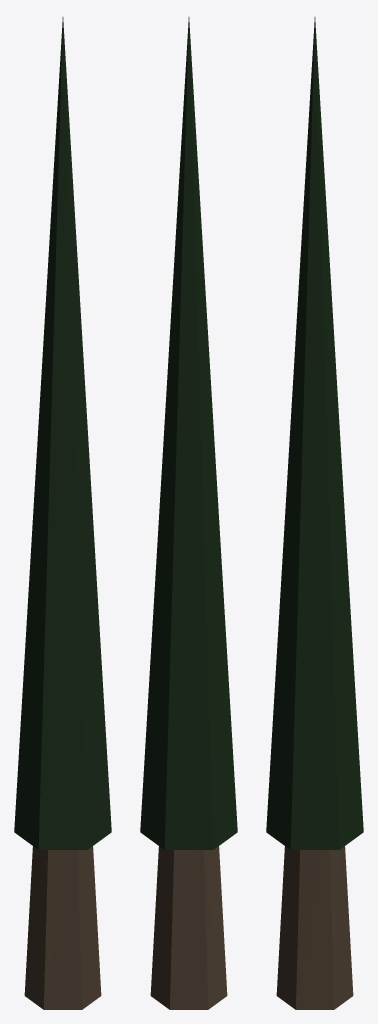
File: 1974-Ecosystem-trees-cypress-3.glb
3 renders of one model, left to right at view 1: azimuth 90°, elevation 25°; view 2: azimuth 210°, elevation 25°; view 3: azimuth 270°, elevation 25°, orthographic.
Visible parts, largest first — view 1: Ecosystem trees/cypress/3; view 2: Ecosystem trees/cypress/3; view 3: Ecosystem trees/cypress/3.
Boxes of the visible parts, x1=… form: Ecosystem trees/cypress/3: x1=14, y1=17, x2=111, y2=1009; Ecosystem trees/cypress/3: x1=140, y1=17, x2=237, y2=1009; Ecosystem trees/cypress/3: x1=266, y1=17, x2=363, y2=1009.
Size of the model in its own units: 0.078 by 1 by 0.0901.
